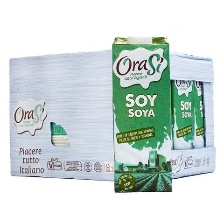carton: (105, 30, 185, 199)
